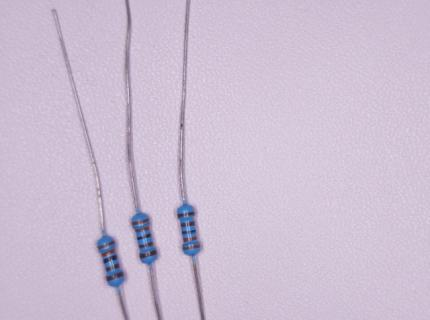Black band: (103, 254, 118, 264), (137, 233, 152, 240), (182, 229, 197, 234)
Brown band: (106, 271, 125, 282), (139, 250, 157, 259), (105, 263, 120, 272), (177, 211, 195, 217), (139, 241, 153, 248), (181, 221, 195, 227)
Orange band: (98, 240, 115, 249), (132, 218, 150, 226), (101, 248, 115, 257), (135, 226, 150, 233), (183, 245, 201, 250), (183, 236, 197, 242)
